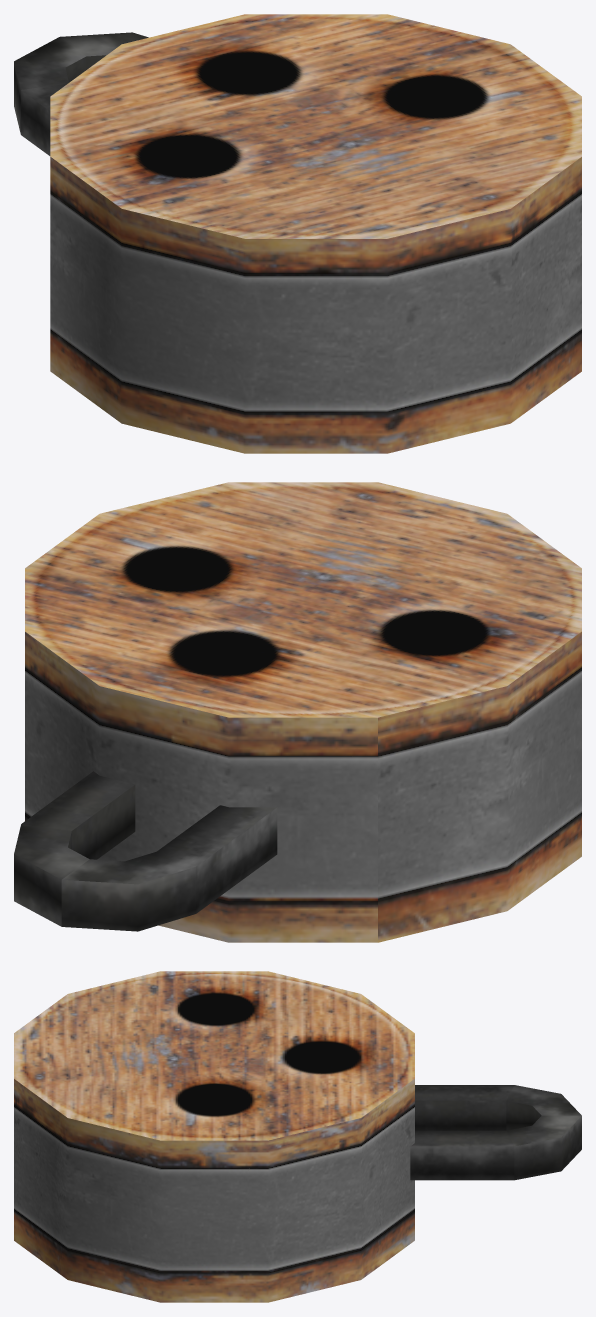
The model's file is Deadeye Small.fbx.
3 views of the same model, one above another, from view 1: azimuth 30°, elevation 25°; view 2: azimuth 150°, elevation 25°; view 3: azimuth 270°, elevation 25° (orthographic). The views are drawn at different scales.
Parts seen in each view (by area): view 1: deadeye simple; view 2: deadeye simple; view 3: deadeye simple.
Boxes of the visible parts, left/top/right/bottom form: deadeye simple: left=14, top=14, right=581, bottom=453; deadeye simple: left=14, top=482, right=581, bottom=942; deadeye simple: left=14, top=971, right=581, bottom=1302.
Size of the model in its own units: 19.81 by 28.07 by 8.83.
Materials: 1 (1 with a texture image).
